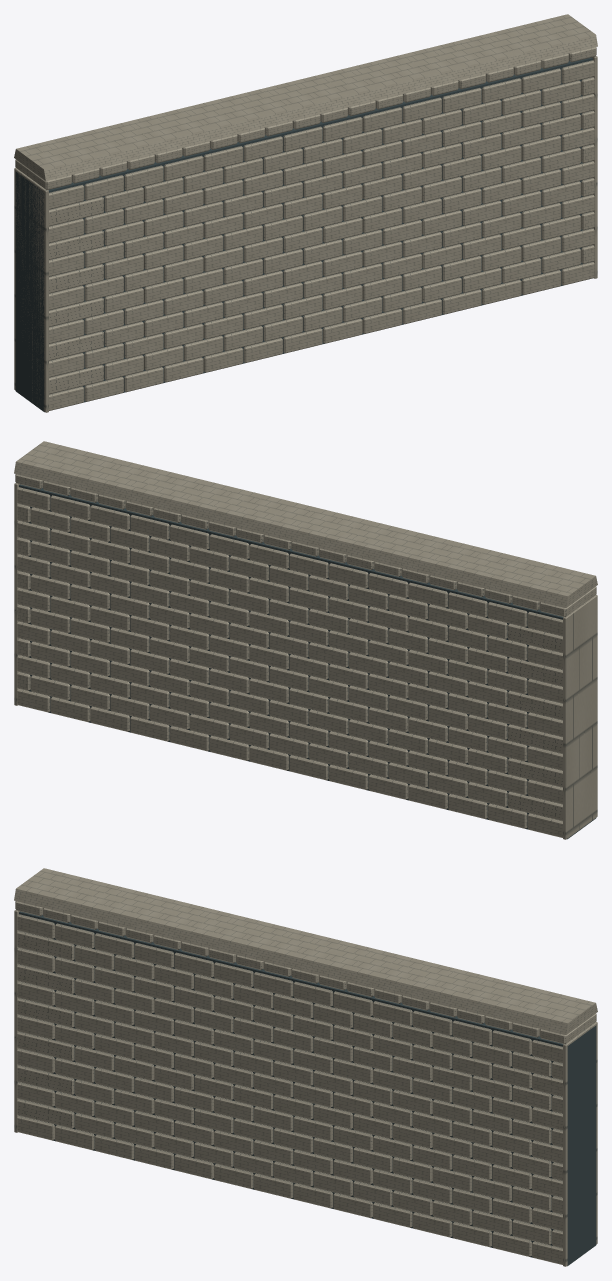
3 renders of one model, top to bottom at view 1: azimuth 30°, elevation 25°; view 2: azimuth 150°, elevation 25°; view 3: azimuth 330°, elevation 25°, orthographic.
Parts seen in each view (by area): view 1: static_assembly_stone, static_assembly_dark; view 2: static_assembly_stone, static_assembly_dark; view 3: static_assembly_stone, static_assembly_dark.
Part boxes in pixels (x1,y1,x2,y2): static_assembly_stone: (14, 14, 597, 412); static_assembly_dark: (15, 57, 592, 412); static_assembly_stone: (14, 441, 597, 839); static_assembly_dark: (19, 484, 595, 839); static_assembly_stone: (14, 868, 597, 1266); static_assembly_dark: (19, 911, 596, 1266).
Size of the model in its own units: 10 by 4.2 by 1.
Materials: 2 (1 with a texture image).
